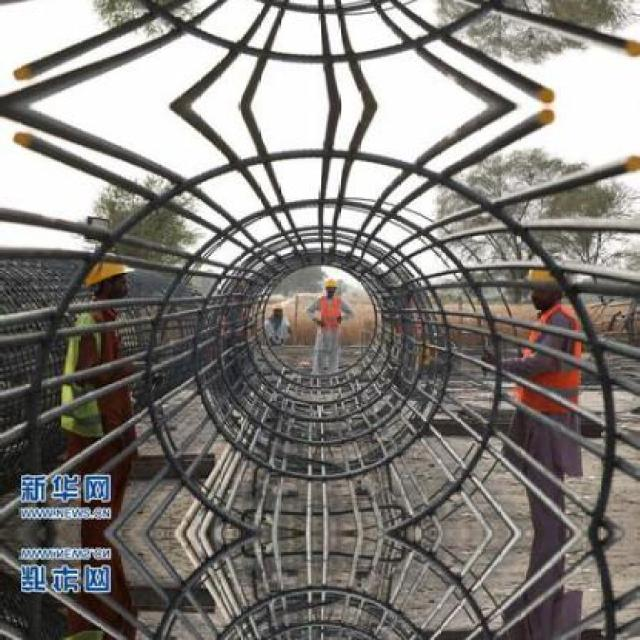helmet: (86, 250, 136, 301), (523, 260, 569, 309), (320, 275, 338, 297)
